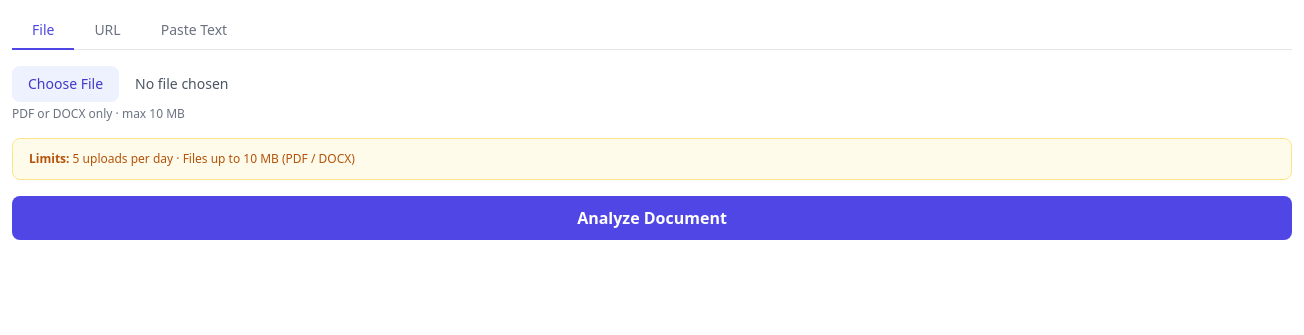
Test case: shows error when URL tab submitted empty
Click the tab "URL": (108, 31) [74,12,141,50]
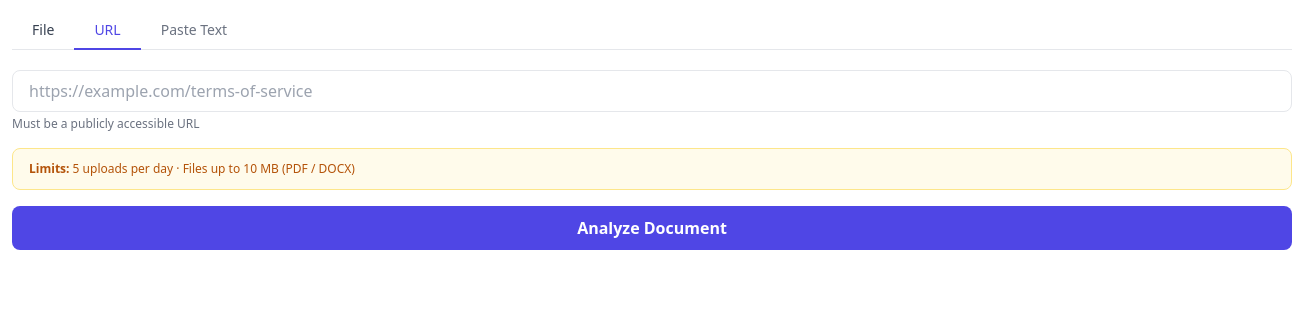
Click the button "Analyze Document": (652, 228) [12,206,1292,250]
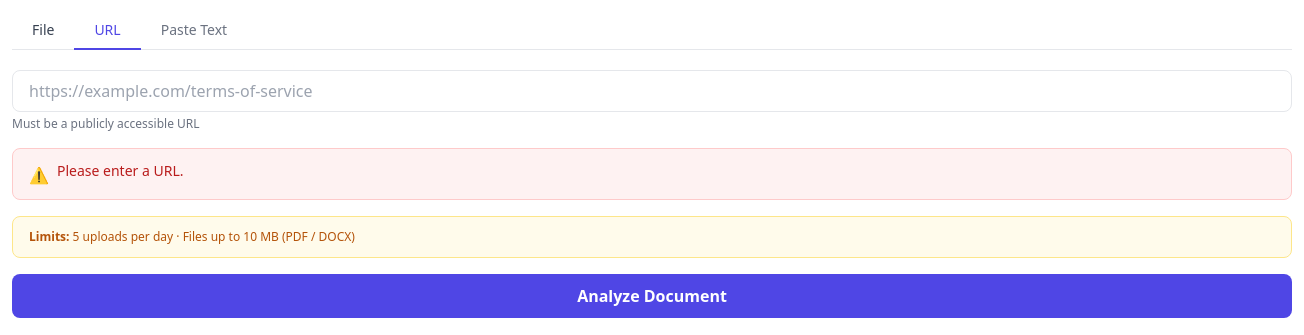
Now the message shows "enter a URL", box [57,161,184,180]
